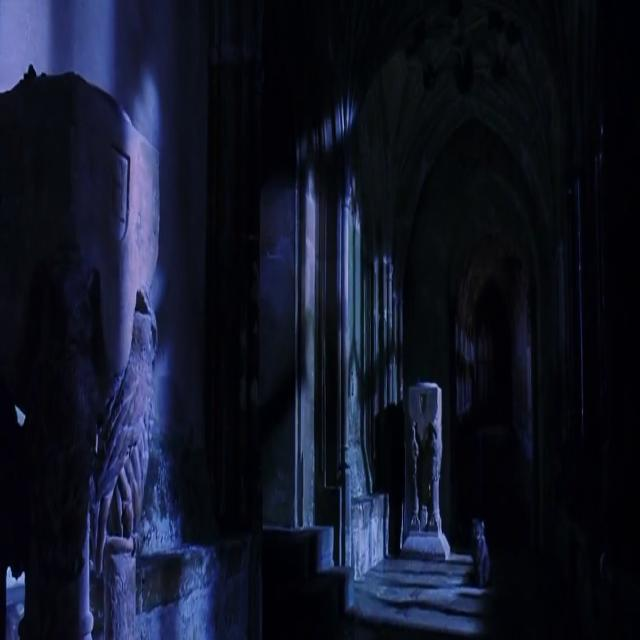Cat: (457, 490, 497, 595)
